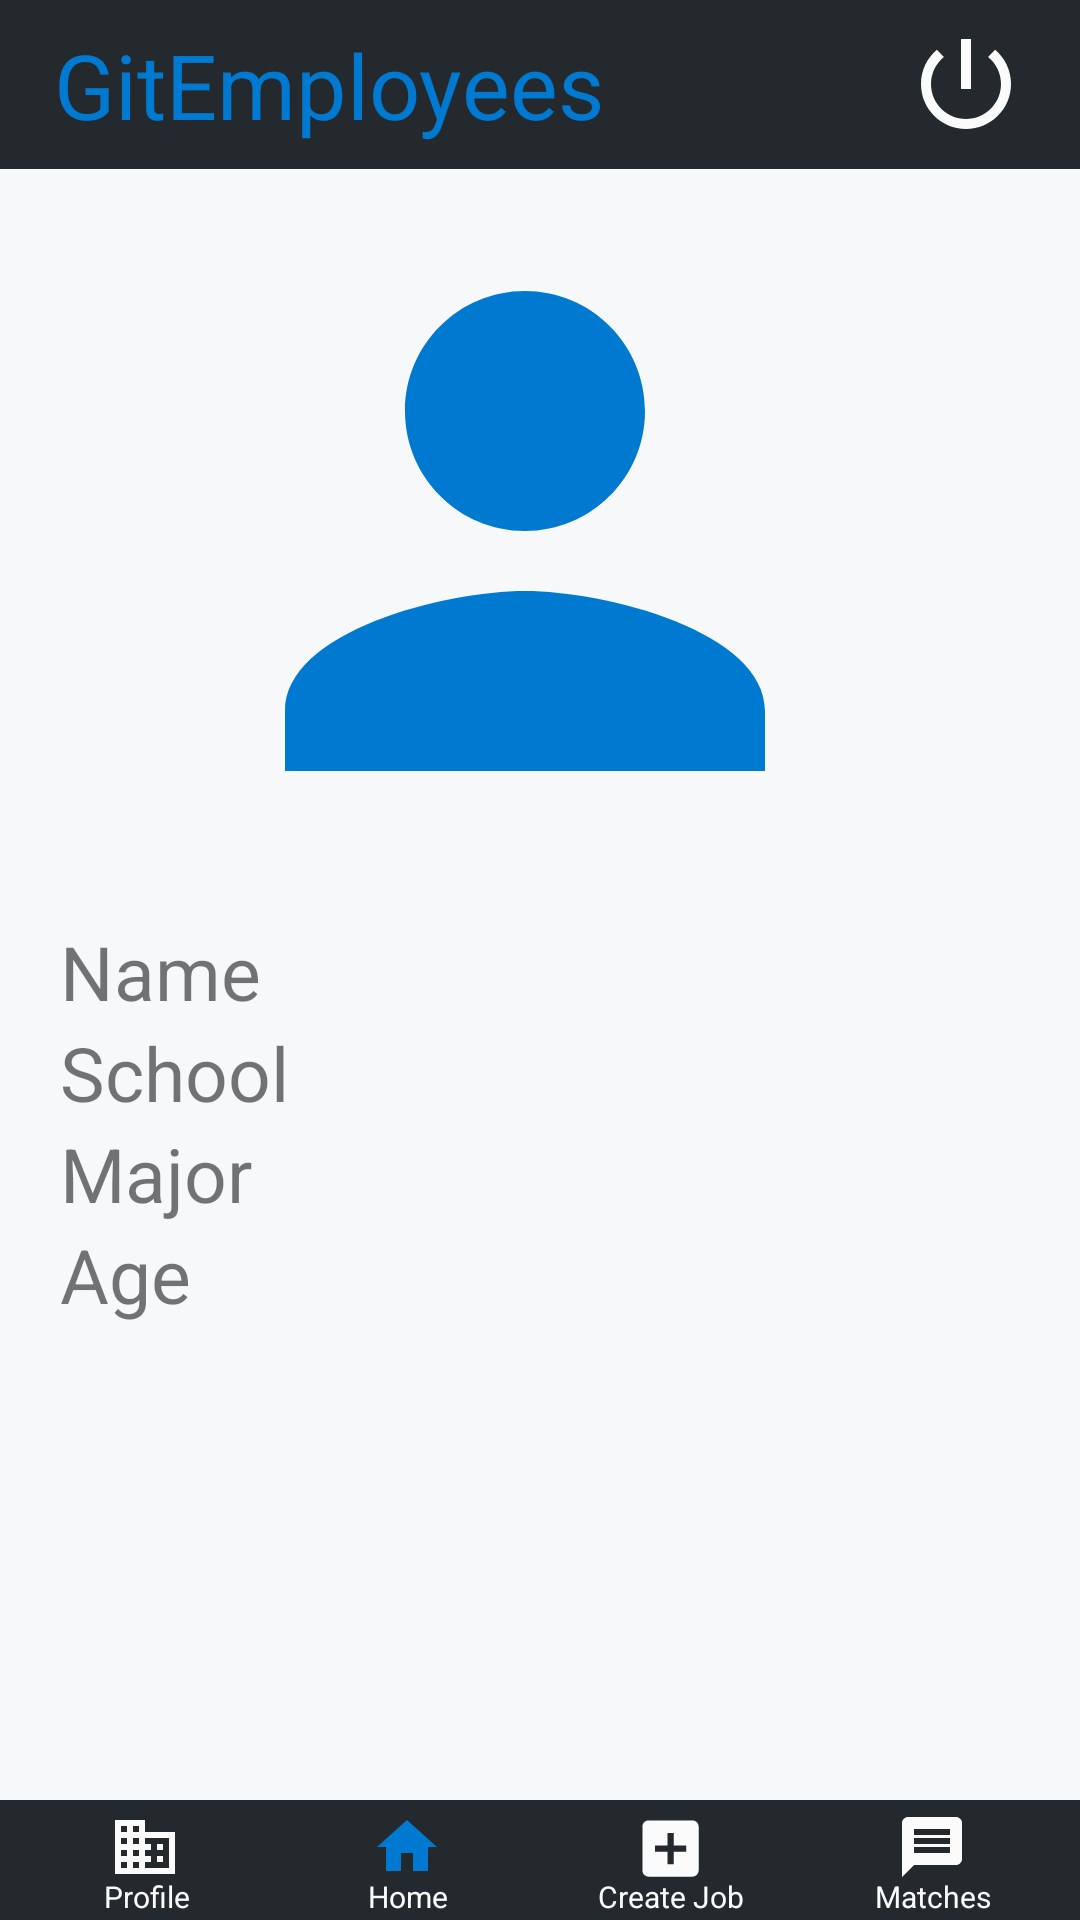

Named icons in this screenshot (1080×1920) and their centers, (x,y):
addwhite: (670,1848)
businesswhite: (145,1847)
messagewhite: (932,1847)
powerwhite: (966,84)
